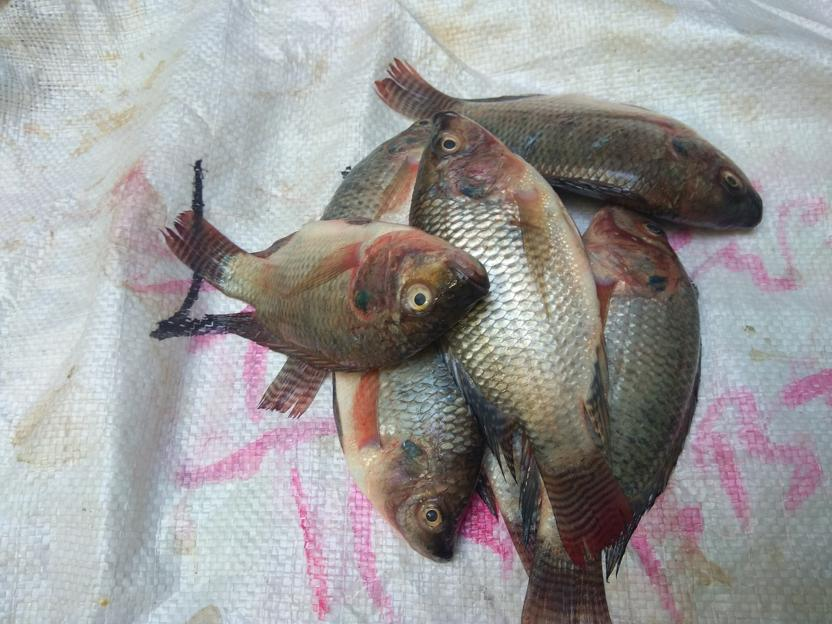Fish head: (355, 228, 489, 359), (356, 440, 475, 562), (415, 109, 529, 206), (656, 140, 763, 232), (584, 201, 680, 295)
Fish tail: (540, 452, 633, 568), (156, 209, 247, 301), (521, 554, 619, 622), (375, 55, 466, 125), (256, 354, 329, 418)
